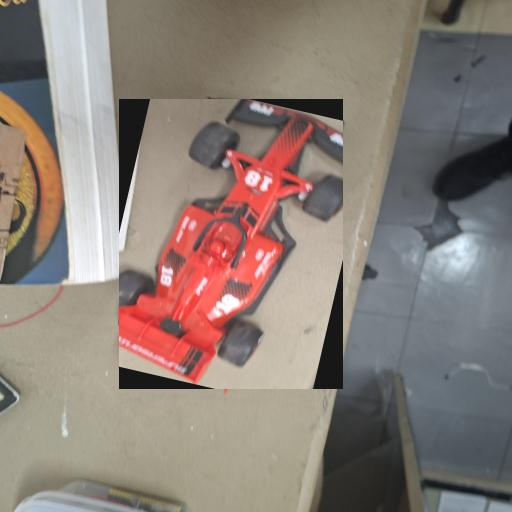carro: (119, 99, 342, 388)
